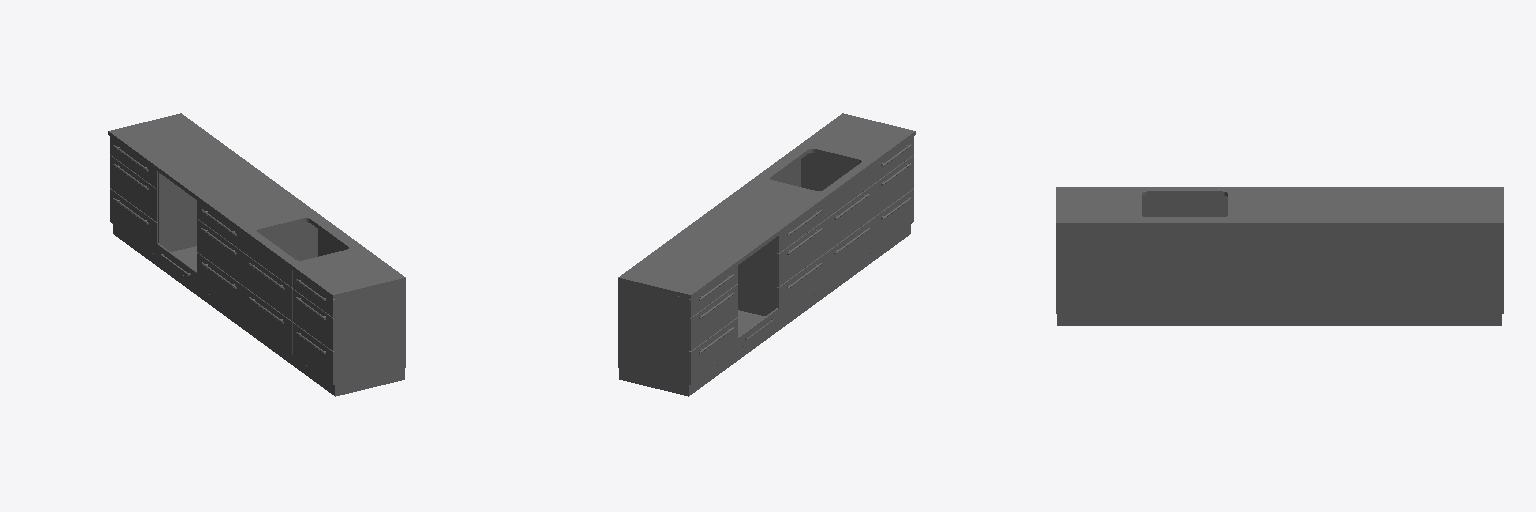
The model's file is Kitchen_Furniture_1.obj.
3 renders of one model, left to right at view 1: azimuth 30°, elevation 25°; view 2: azimuth 150°, elevation 25°; view 3: azimuth 270°, elevation 25°, orthographic.
Parts seen in each view (by area): view 1: Kitchen_Furniture_1_Untitled; view 2: Kitchen_Furniture_1_Untitled; view 3: Kitchen_Furniture_1_Untitled.
Boxes of the visible parts, x1=… form: Kitchen_Furniture_1_Untitled: x1=108, y1=113, x2=405, y2=396; Kitchen_Furniture_1_Untitled: x1=618, y1=113, x2=915, y2=396; Kitchen_Furniture_1_Untitled: x1=1056, y1=187, x2=1503, y2=325.
Bounding box in the file's own units: 0.6563 × 0.8556 × 3.38.